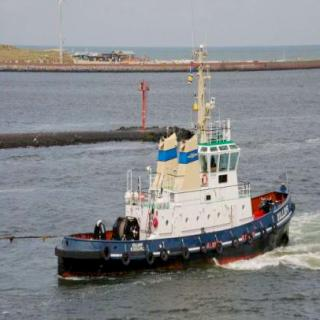Tug Boat: (57, 91, 298, 267)
